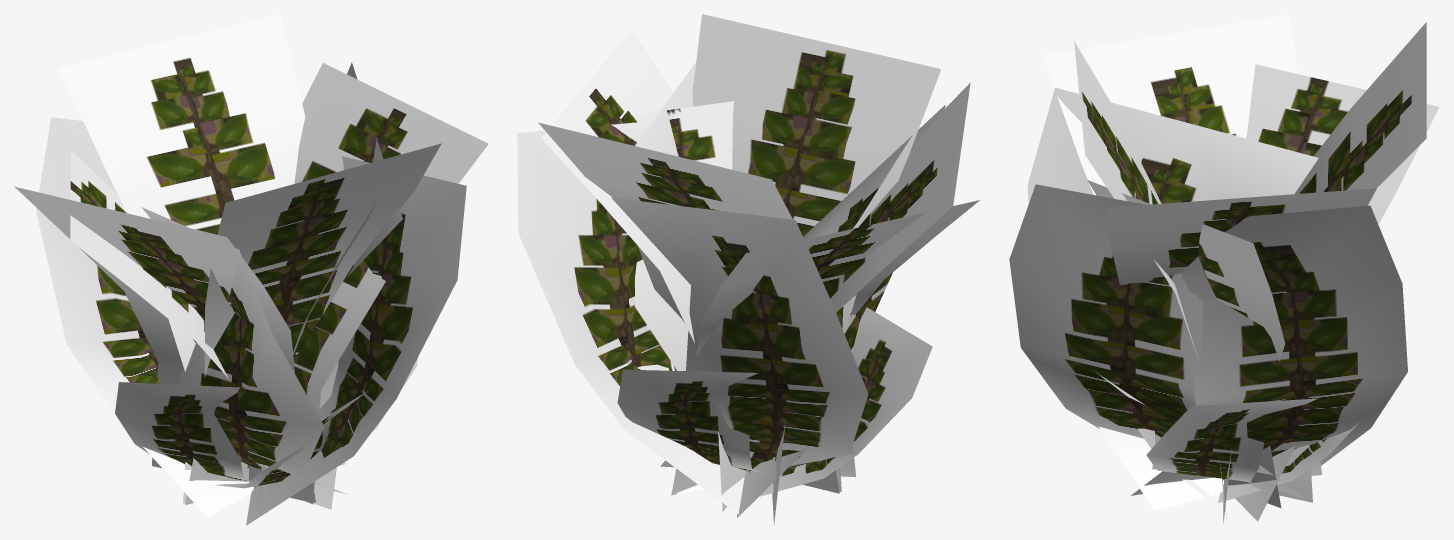
File: Foliage 3.FBX
3 views of the same model, side by side, from view 1: azimuth 30°, elevation 25°; view 2: azimuth 150°, elevation 25°; view 3: azimuth 270°, elevation 25° (orthographic). The views are drawn at different scales.
Visible parts, largest first — view 1: Foliage 3; view 2: Foliage 3; view 3: Foliage 3.
Part boxes in pixels (x1,y1,x2,y2): Foliage 3: [14, 14, 488, 525]; Foliage 3: [517, 14, 979, 525]; Foliage 3: [1009, 14, 1439, 523].
Bounding box in the file's own units: 14.16 × 12.57 × 13.32.
